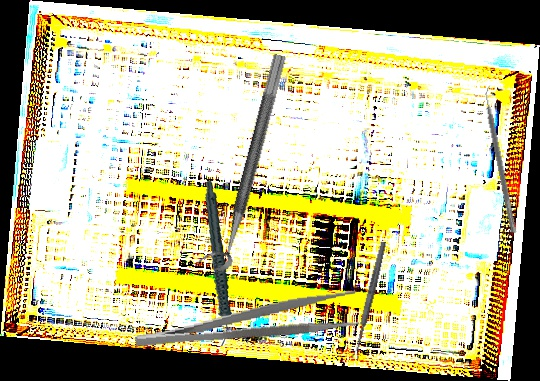Dressing Forceps: (132, 288, 360, 353)
Fixation Ring: (196, 48, 288, 274)
Handpiece: (186, 180, 248, 347)
Spatula Surgical: (479, 83, 524, 234)
Surgical Spoon: (350, 240, 388, 361)
